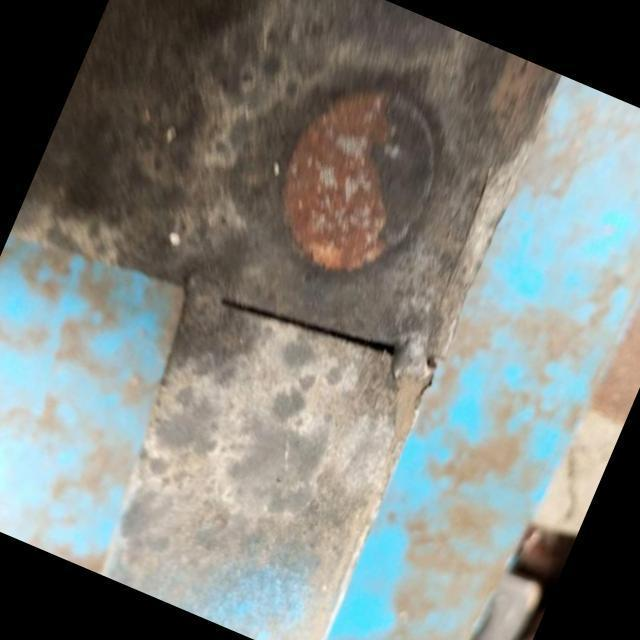defect: (213, 295, 403, 365)
